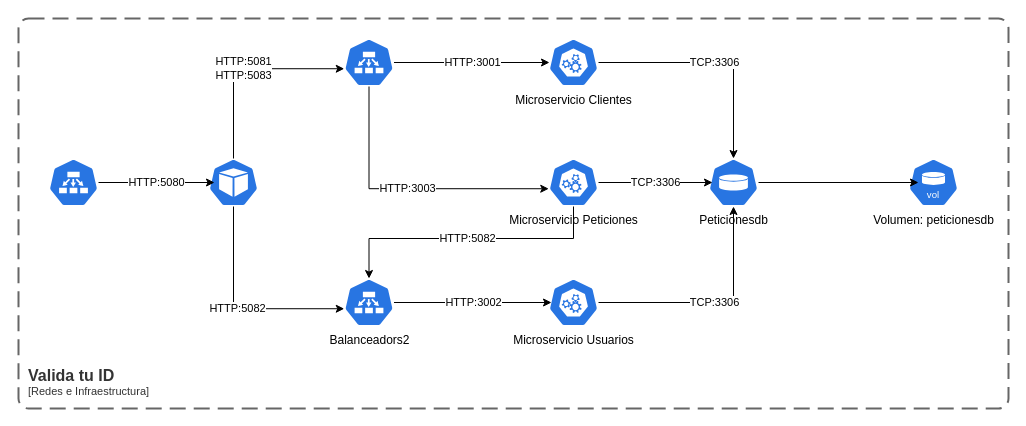
Some shapes in this 1026 by 426 pixel diagram are drawn without their labels. The centre of each missing label's shape, as x and y in pixels:
"Balanceadors1" goes at (368,62).
"Balanceadorw" goes at (73,182).
"Portal" goes at (233,182).
